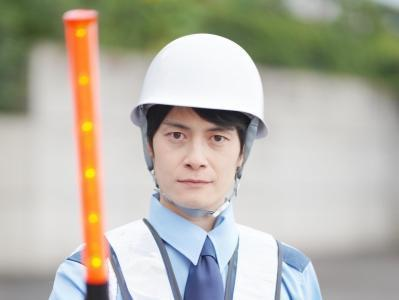helmet: (127, 32, 276, 137)
